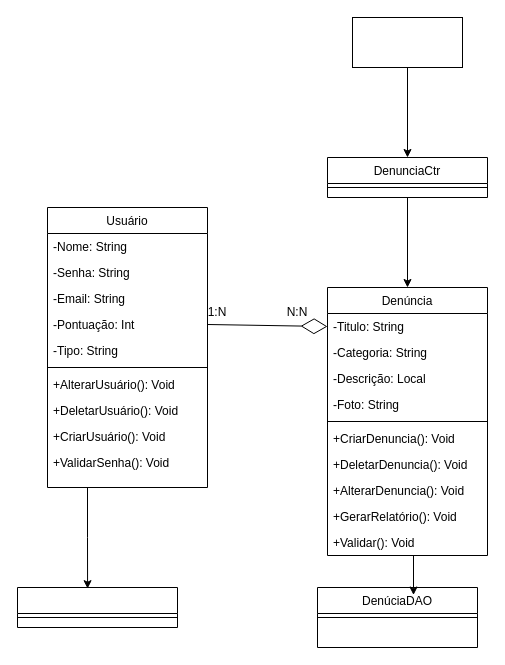
Some shapes in this 505 by 665 pixel diagram are drawn without their labels. Here are the shapes that lost their labels. From the top down, the centre of each, then its label:
At point 407,42: "«View» TelaCriarDenúncia".
At point 97,607: "UsuárioDAO".
